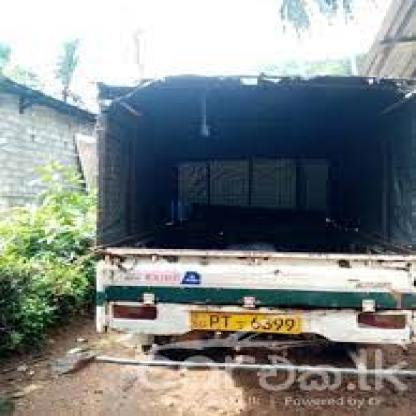Lorry back: (88, 75, 416, 346)
number plate: (197, 310, 299, 336)
